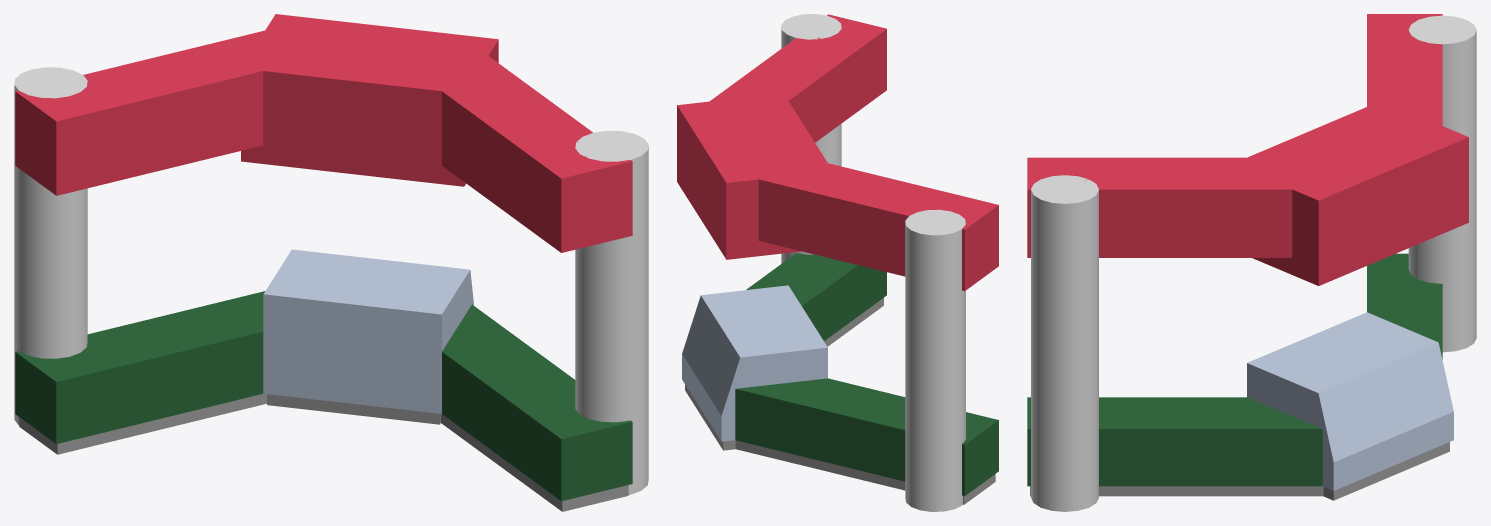
Rendered from FoodCorner.fbx.
3 views of the same model, side by side, from view 1: azimuth 30°, elevation 25°; view 2: azimuth 150°, elevation 25°; view 3: azimuth 270°, elevation 25° (orthographic). The views are drawn at different scales.
Parts seen in each view (by area): view 1: Cube.005, Cube.001, Cube.002, Cube.006, Cube, Cube.004, Cylinder, Cylinder.001; view 2: Cylinder.001, Cube.002, Cube.006, Cube.005, Cube.001, Cube.004, Cube, Cylinder; view 3: Cube.005, Cube.001, Cylinder, Cube, Cube.004, Cylinder.001, Cube.006, Cube.002.
Part boxes in pixels (x1,y1,x2,y2): Cube.005: (241, 14, 498, 186); Cube.001: (263, 249, 473, 424); Cube.002: (15, 291, 266, 454); Cube.006: (15, 30, 264, 195); Cube: (441, 304, 632, 511); Cube.004: (442, 56, 632, 252); Cylinder: (575, 130, 648, 494); Cylinder.001: (14, 67, 87, 425); Cylinder.001: (905, 209, 965, 511); Cube.002: (735, 378, 998, 504); Cube.006: (758, 163, 998, 290); Cube.005: (677, 93, 832, 259); Cube.001: (682, 285, 827, 450); Cube.004: (709, 14, 886, 142); Cube: (746, 253, 886, 346); Cylinder: (781, 14, 841, 263); Cube.005: (1232, 100, 1468, 285); Cube.001: (1247, 312, 1453, 500); Cylinder: (1031, 175, 1098, 511); Cube: (1027, 397, 1323, 496); Cube.004: (1027, 157, 1292, 257); Cylinder.001: (1408, 15, 1476, 352); Cube.006: (1367, 14, 1442, 125); Cube.002: (1367, 253, 1442, 359).
Bounding box in the file's own units: 11.9 × 9 × 11.9.
